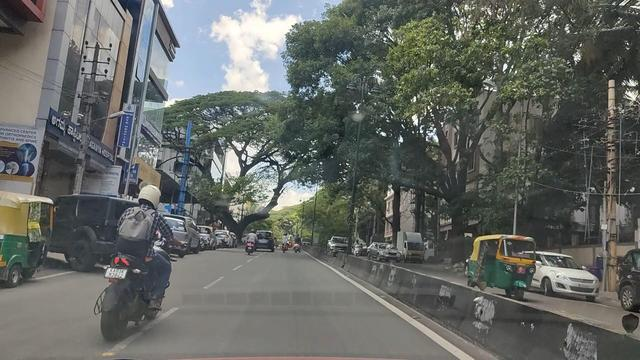LMV: (116, 183, 168, 339)
